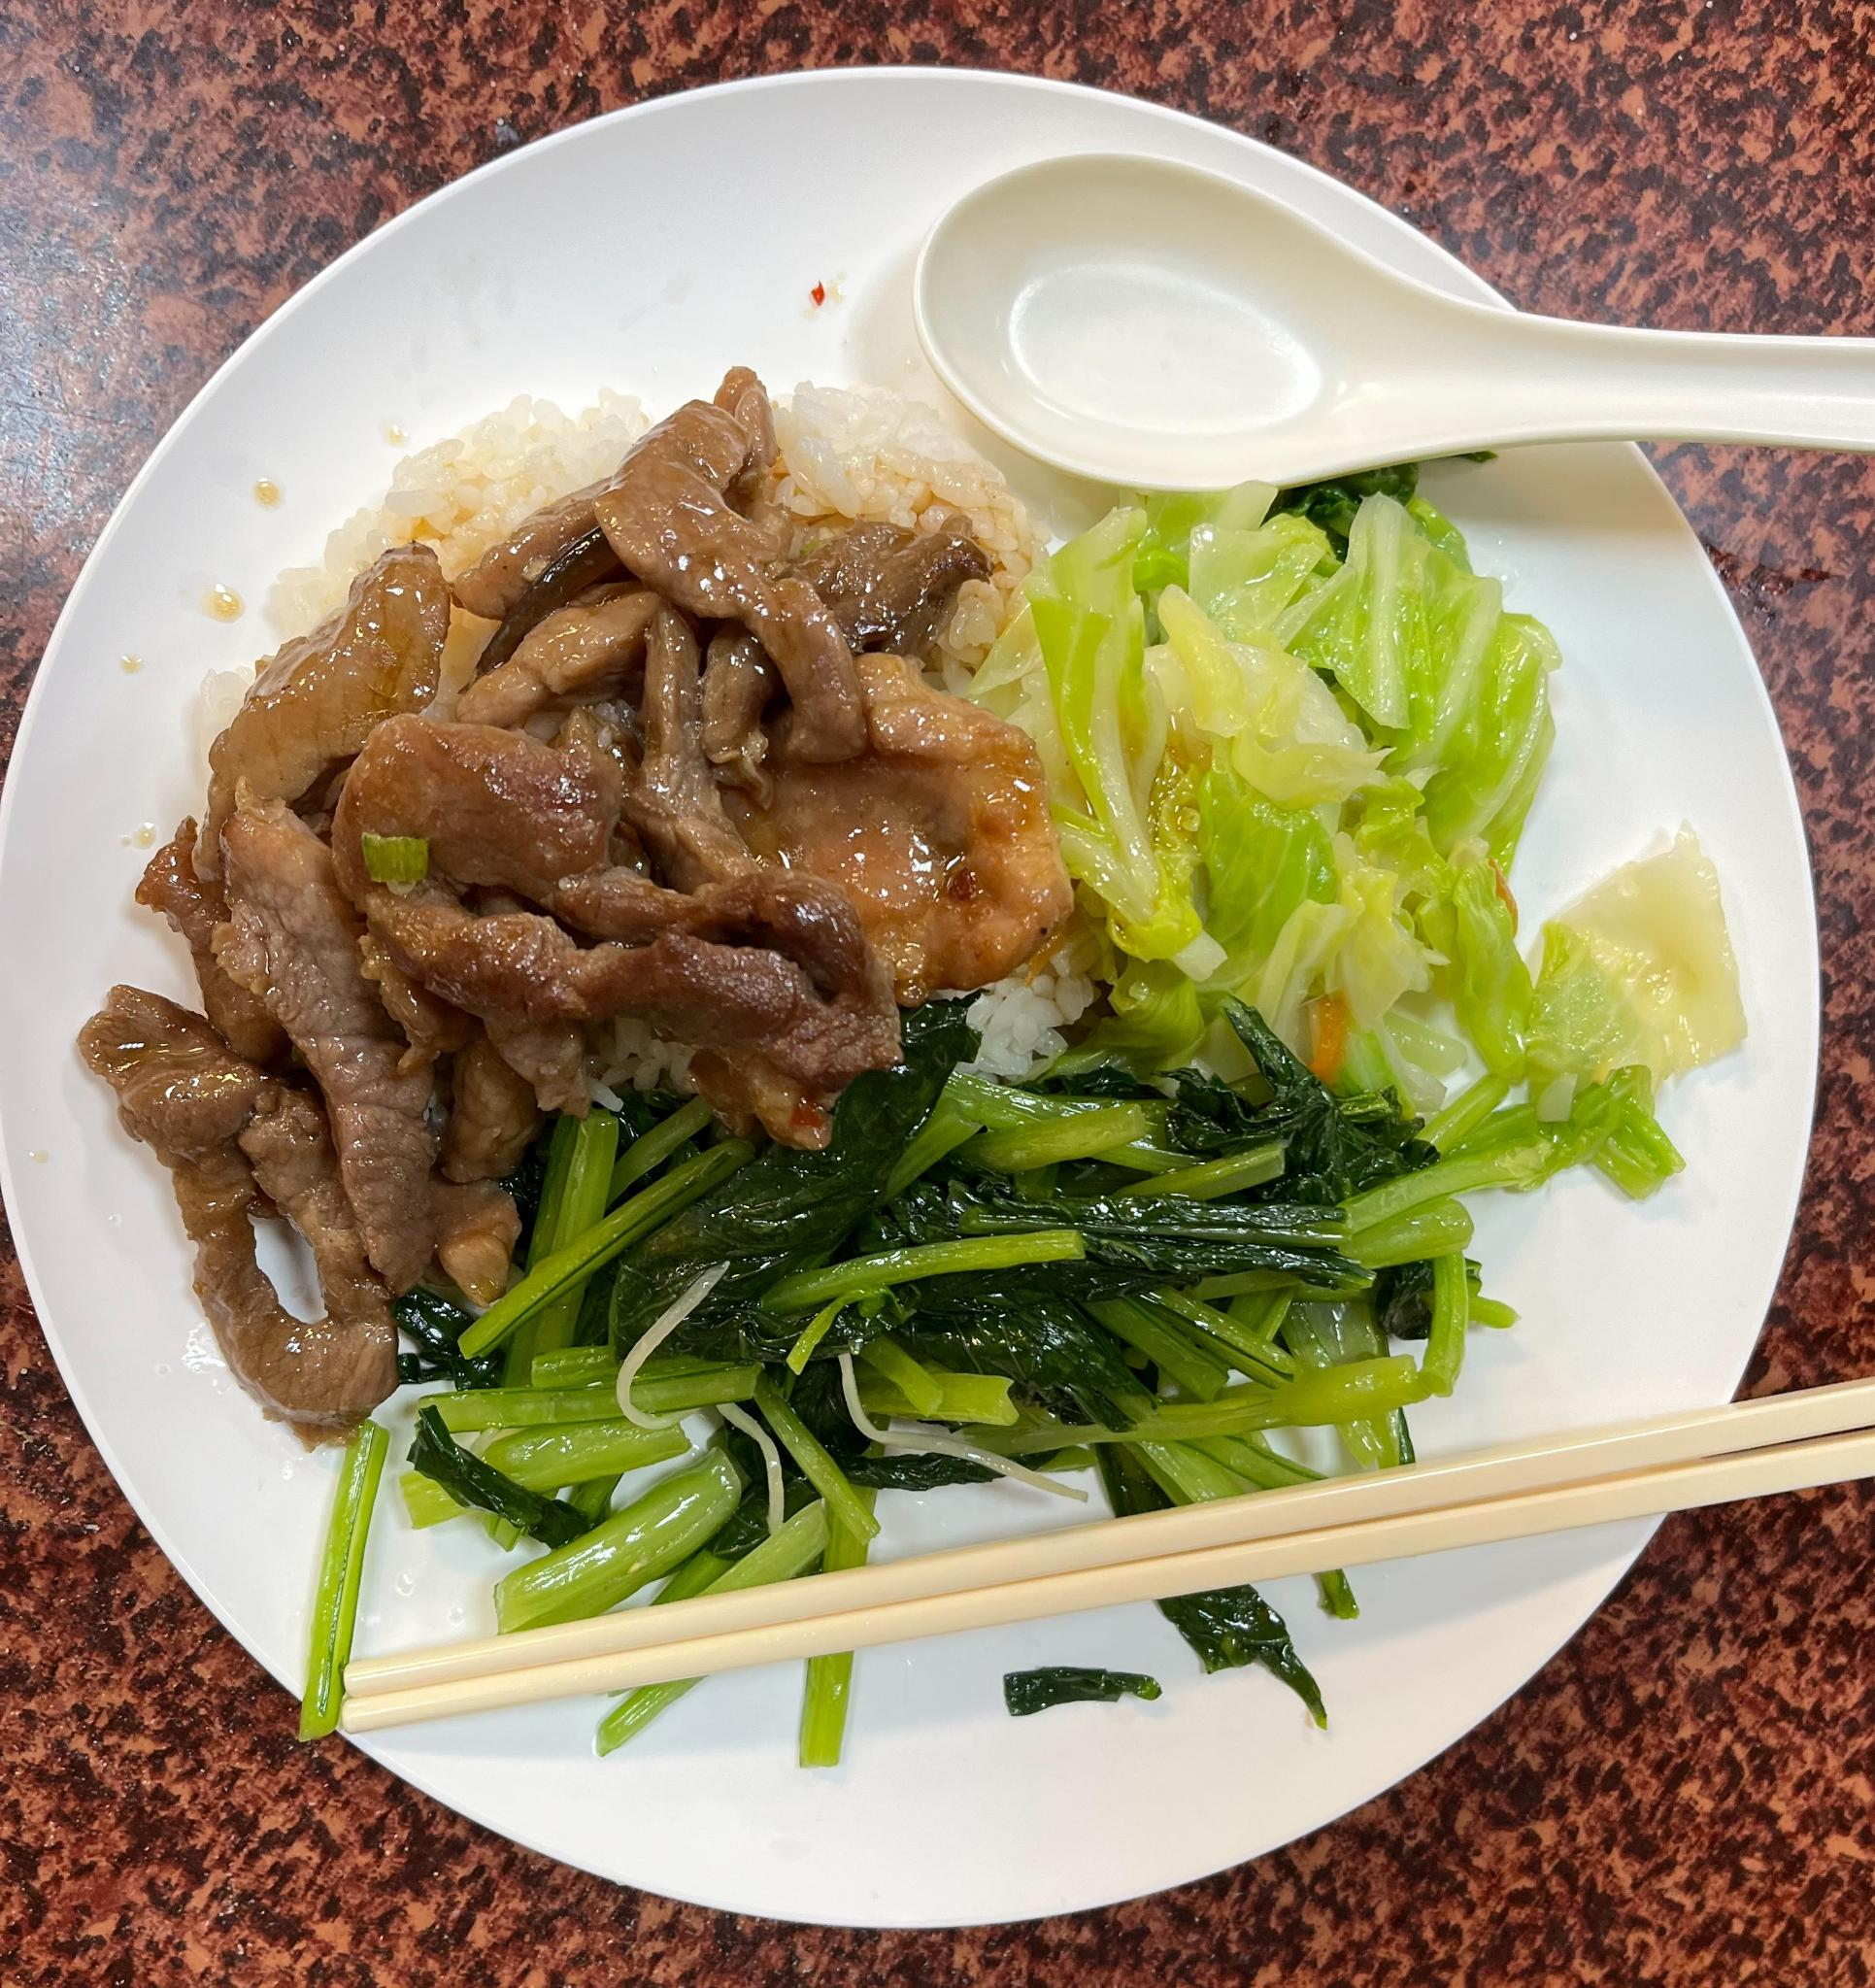big fried chicken leg: (41, 33, 1843, 1965)
big herbal chicken leg: (182, 389, 1059, 1093)
braised fish fillet: (425, 976, 1434, 1588), (1001, 467, 1715, 1135)
braised pork: (146, 407, 950, 1387)
